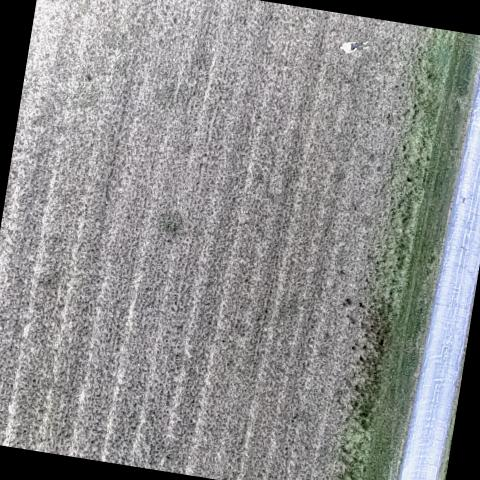person: (334, 36, 372, 58)
